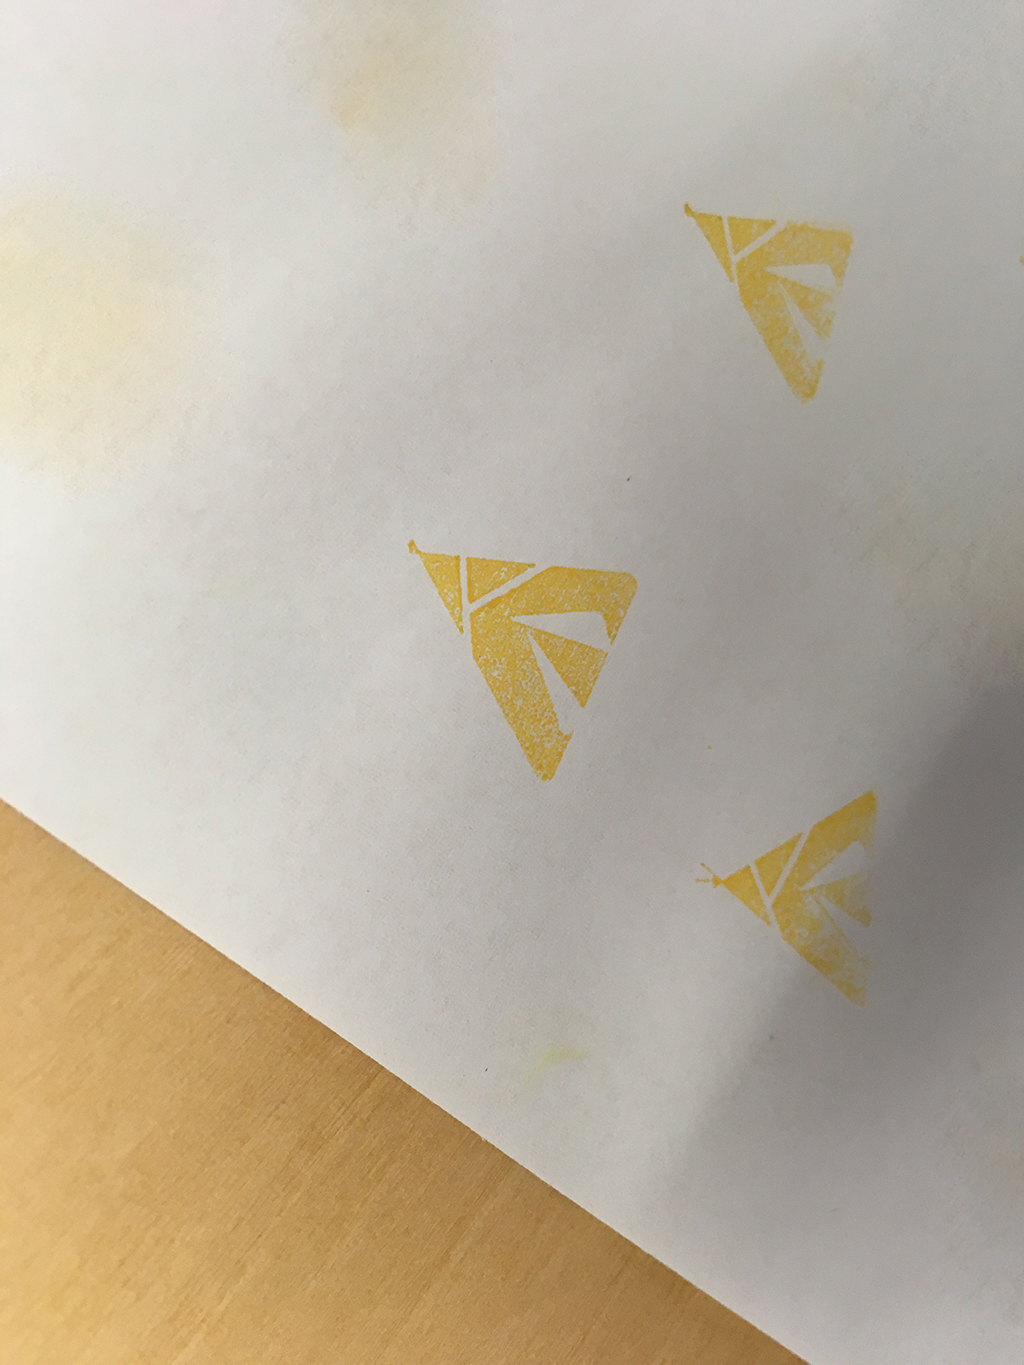tent: (385, 525, 658, 792), (687, 782, 909, 1019), (659, 188, 881, 416)
